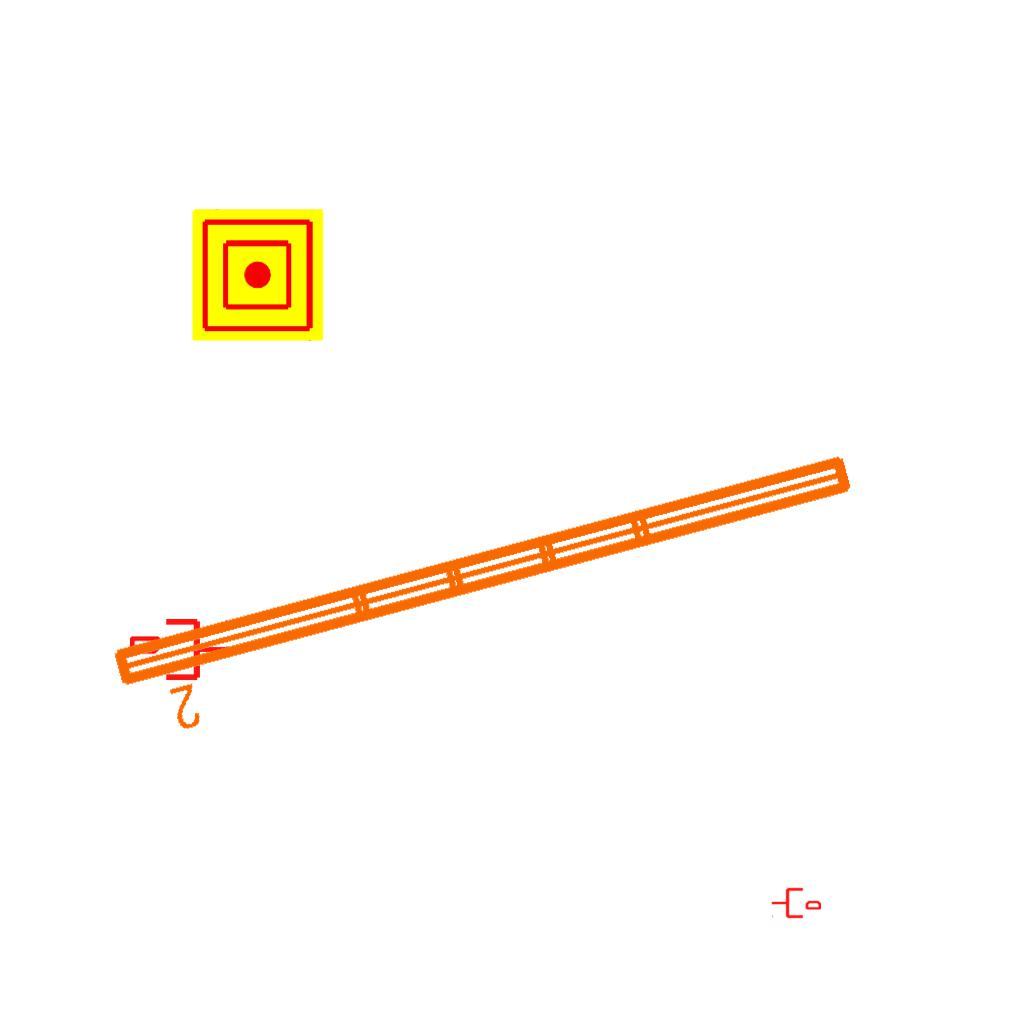Ambulanz_Pendelleuchte_LED: (101, 440, 879, 750)
Datenanschluss_einfach: (130, 615, 230, 684), (771, 886, 821, 920)
NAM-Nichtautomatischer_Melder: (192, 209, 324, 341)
